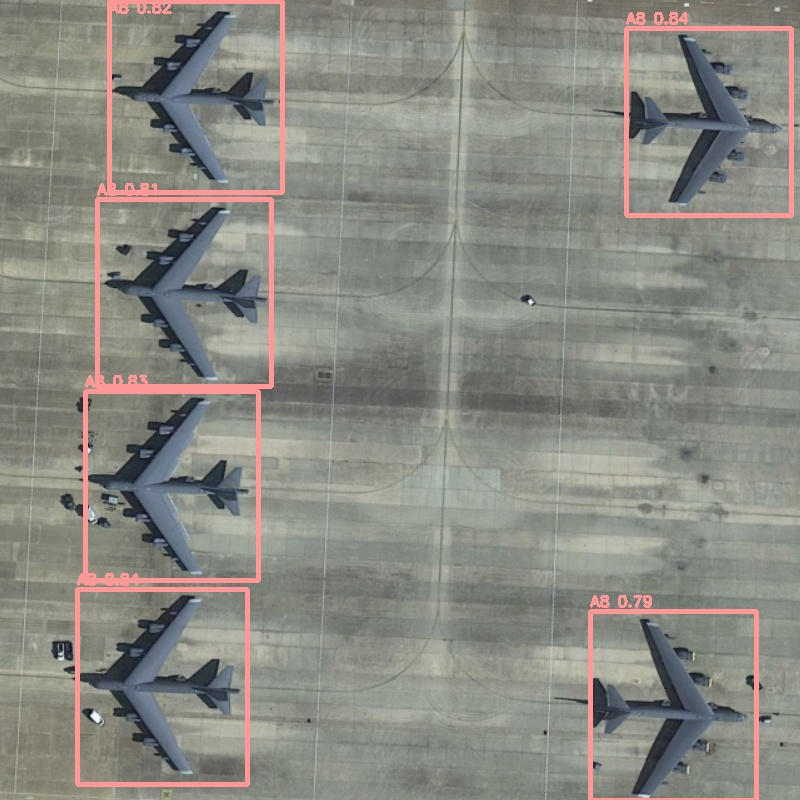A8: (77, 589, 247, 784), (109, 1, 282, 192), (85, 391, 258, 580), (97, 199, 271, 386), (590, 611, 756, 800), (626, 28, 791, 215)
